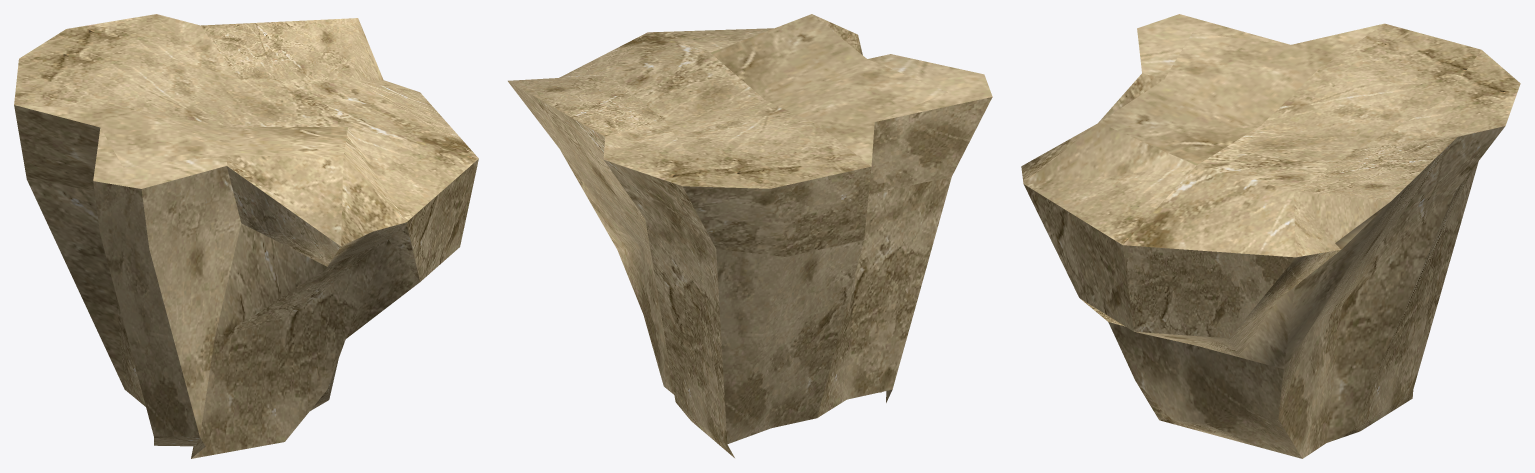
The model's file is geo_desert_03.dae.
3 views of the same model, side by side, from view 1: azimuth 30°, elevation 25°; view 2: azimuth 150°, elevation 25°; view 3: azimuth 270°, elevation 25° (orthographic). The views are drawn at different scales.
Parts seen in each view (by area): view 1: Box03; view 2: Box03; view 3: Box03.
Part boxes in pixels (x1,y1,x2,y2): Box03: [14, 14, 478, 458]; Box03: [508, 14, 992, 457]; Box03: [1021, 14, 1520, 458].
Size of the model in its own units: 16.6 by 17.88 by 12.7.
